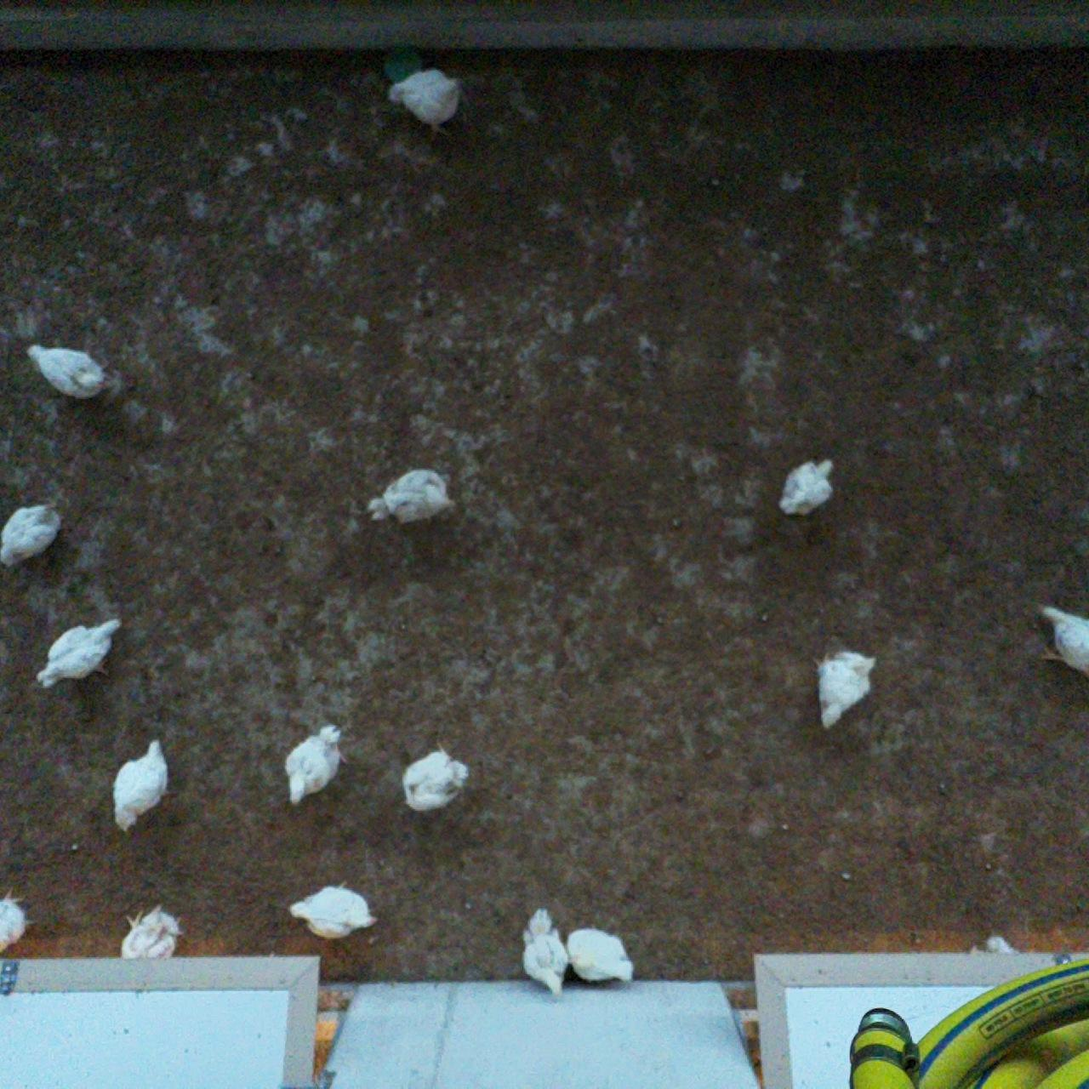chicken: (32, 607, 121, 698), (106, 729, 173, 838), (366, 463, 462, 533), (809, 639, 878, 736), (279, 720, 351, 811), (24, 336, 114, 408), (385, 64, 467, 143), (284, 879, 378, 942), (0, 492, 66, 579), (519, 902, 573, 1002), (772, 449, 840, 523), (399, 740, 468, 811), (561, 922, 637, 986), (1032, 599, 1089, 679), (116, 901, 185, 966), (0, 876, 34, 961)
